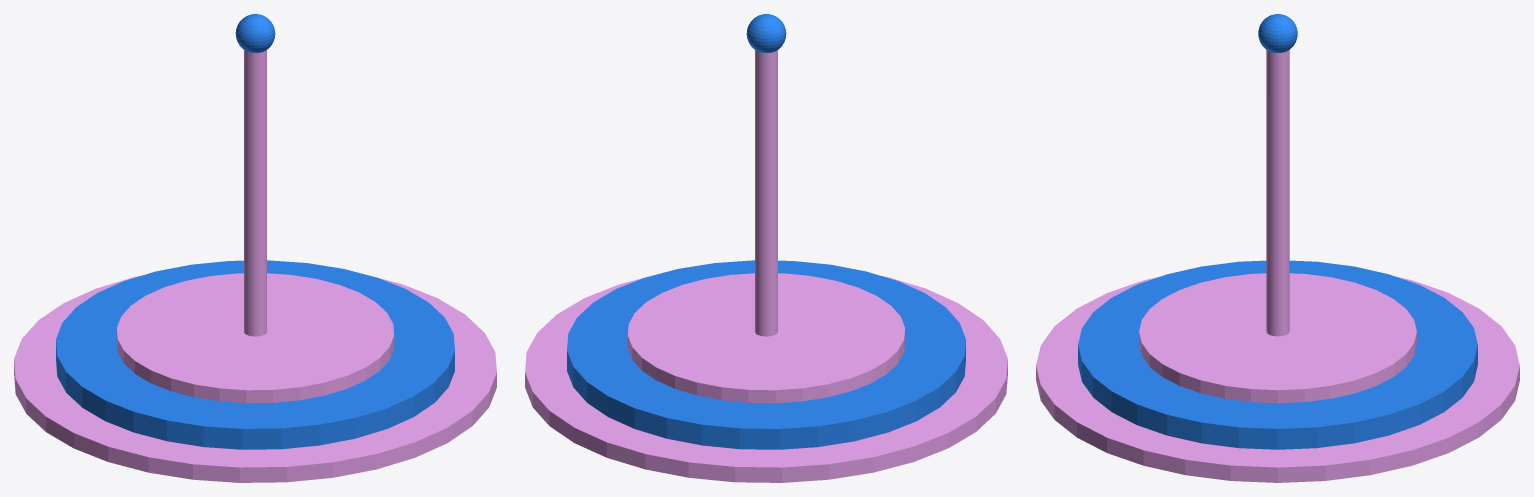
Rendered from checkPointAgarrado.fbx.
3 renders of one model, left to right at view 1: azimuth 30°, elevation 25°; view 2: azimuth 150°, elevation 25°; view 3: azimuth 270°, elevation 25°, orthographic.
Parts seen in each view (by area): view 1: Cylinder.004, Cylinder.005, Cylinder.003, Cylinder.007, Sphere; view 2: Cylinder.004, Cylinder.005, Cylinder.003, Cylinder.007, Sphere; view 3: Cylinder.004, Cylinder.005, Cylinder.003, Cylinder.007, Sphere.
Part boxes in pixels (left/top/right/bottom): Cylinder.004: left=56, top=260, right=454, bottom=449; Cylinder.005: left=116, top=273, right=394, bottom=403; Cylinder.003: left=14, top=275, right=496, bottom=482; Cylinder.007: left=244, top=50, right=266, bottom=336; Sphere: left=235, top=14, right=275, bottom=52; Cylinder.004: left=567, top=260, right=965, bottom=449; Cylinder.005: left=627, top=273, right=905, bottom=403; Cylinder.003: left=525, top=275, right=1007, bottom=482; Cylinder.007: left=755, top=50, right=777, bottom=336; Sphere: left=746, top=14, right=786, bottom=52; Cylinder.004: left=1078, top=260, right=1477, bottom=449; Cylinder.005: left=1139, top=273, right=1416, bottom=403; Cylinder.003: left=1036, top=277, right=1519, bottom=482; Cylinder.007: left=1266, top=50, right=1289, bottom=336; Sphere: left=1258, top=14, right=1297, bottom=52.
Size of the model in its own units: 487 by 405 by 487.
1 material, 1 textured.
